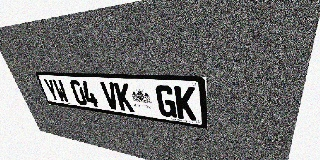0: (69, 80, 88, 106)
4: (80, 81, 99, 107)
G: (155, 85, 177, 118)
K: (174, 86, 197, 121), (114, 82, 134, 112)
V: (100, 82, 120, 110)
W: (52, 79, 70, 103)
Y: (43, 79, 61, 102)
